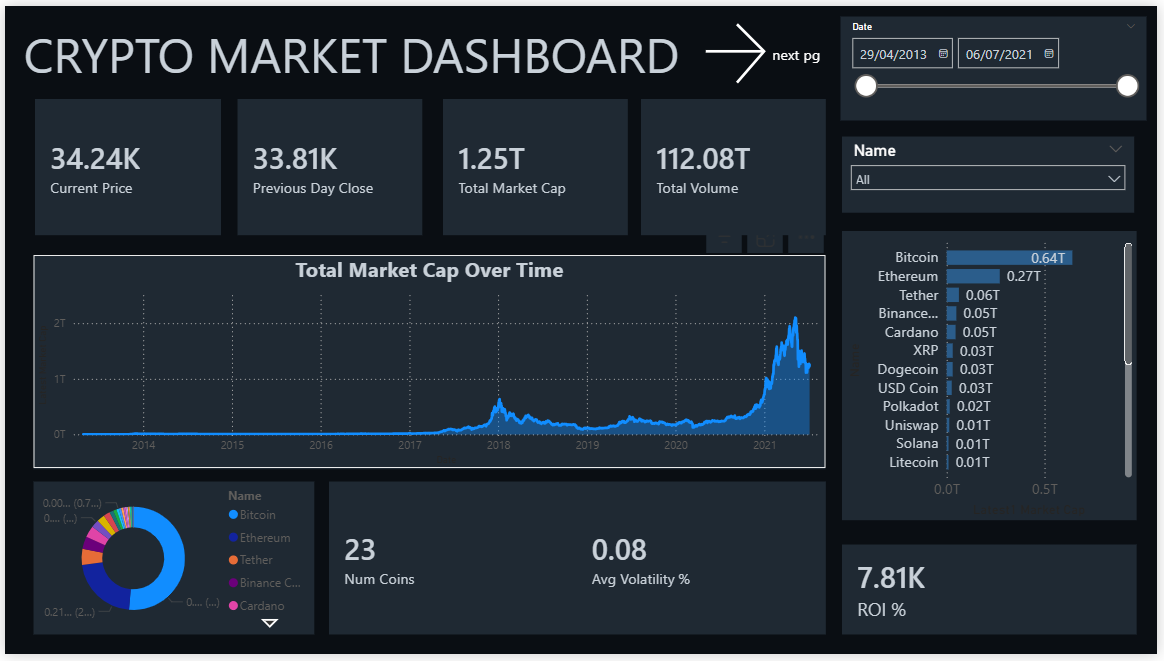

The dashboard page shown, as its layout file describes it:
{"tool":"powerbi","page":{"name":"DASHBOARD","canvas":[1280,720],"ordinal":0},"visuals":[{"type":"textbox","box":[0,11.7,770,81.7],"z":0},{"type":"slicer","fields":{"Values":["CRYPTODATA.Date"]},"box":[928,12,340,114.9],"z":0,"group":"g2"},{"type":"cardVisual","fields":{"Data":["_MEASURE.Current Price"]},"box":[32.9,103.1,206.7,151.4],"z":0,"group":"g1"},{"type":"cardVisual","fields":{"Data":["_MEASURE.Previous Day Close"]},"box":[257.5,103.1,205.6,151],"z":1000,"group":"g1"},{"type":"slicer","fields":{"Values":["CRYPTODATA.Name"]},"box":[930.2,145.2,324.9,84.9],"z":1000,"group":"g2"},{"type":"stackedAreaChart","title":"Total Market Cap Over Time","fields":{"Y":["_MEASURE.Latest Market Cap"],"Category":["DateTable.Date"]},"box":[32,276,880,238],"z":1000},{"type":"cardVisual","fields":{"Data":["_MEASURE.Total Market Cap All"]},"box":[485.4,103.1,205.6,151],"z":2000,"group":"g1"},{"type":"barChart","fields":{"Y":["_MEASURE.Latest1 Market Cap"],"Category":["CRYPTODATA.Name"]},"box":[930.2,250.1,327.1,321.4],"z":2000,"group":"g2"},{"type":"donutChart","fields":{"Y":["_MEASURE.Coin Dominance %"],"Category":["CRYPTODATA.Name"]},"box":[32,528,312,170],"z":2000},{"type":"cardVisual","fields":{"Data":["_MEASURE.Total Volume"]},"box":[705.9,103.1,205.6,151],"z":3000,"group":"g1"},{"type":"cardVisual","fields":{"Data":["_MEASURE.Num Coins","_MEASURE.Avg Volatility %"]},"box":[360,528,552,170],"z":3000},{"type":"cardVisual","fields":{"Data":["_MEASURE.ROI %"]},"box":[930.2,598.1,327.1,99.9],"z":3000,"group":"g2"},{"type":"group","id":"g1","title":"Group 1","box":[32.9,103.1,878.6,151.4],"z":4000},{"type":"group","id":"g2","title":"Group 2","box":[928,12,340,686],"z":5000},{"type":"actionButton","box":[770,12,140,82],"z":6000}]}

Visuals, with their boxes in screenshot pixels (x1, y1, x2, y2), scaled from the page's 1280x720 canvas onto the 1164x661 screenshot:
textbox: [0, 11, 700, 86]
slicer - CRYPTODATA.Date: [844, 11, 1153, 117]
cardVisual - _MEASURE.Current Price: [30, 95, 218, 234]
cardVisual - _MEASURE.Previous Day Close: [234, 95, 421, 233]
slicer - CRYPTODATA.Name: [846, 133, 1141, 211]
"Total Market Cap Over Time" stackedAreaChart: [29, 253, 829, 472]
cardVisual - _MEASURE.Total Market Cap All: [441, 95, 628, 233]
barChart - _MEASURE.Latest1 Market Cap x CRYPTODATA.Name: [846, 230, 1143, 525]
donutChart - _MEASURE.Coin Dominance % x CRYPTODATA.Name: [29, 485, 313, 641]
cardVisual - _MEASURE.Total Volume: [642, 95, 829, 233]
cardVisual - _MEASURE.Num Coins x _MEASURE.Avg Volatility %: [327, 485, 829, 641]
cardVisual - _MEASURE.ROI %: [846, 549, 1143, 641]
"Group 1" group: [30, 95, 829, 234]
"Group 2" group: [844, 11, 1153, 641]
actionButton: [700, 11, 828, 86]
